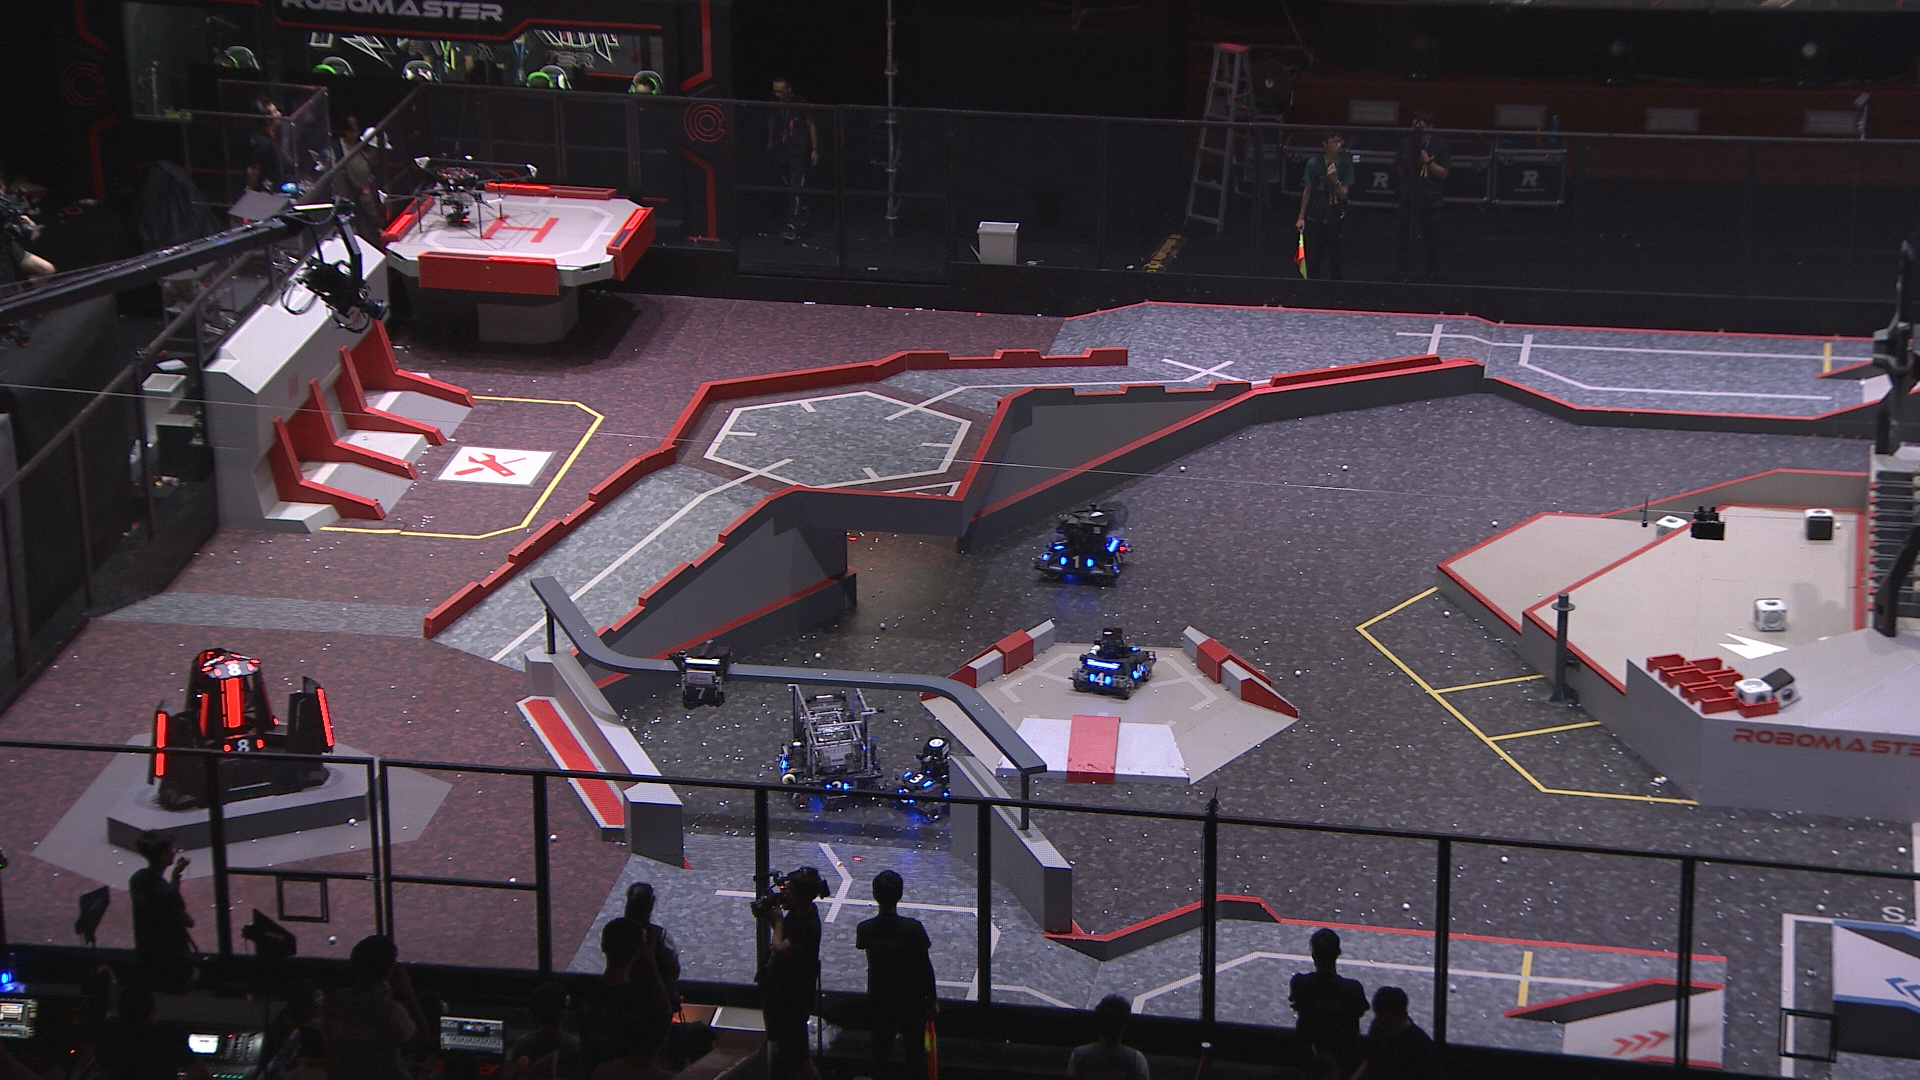armor: (218, 678, 245, 732), (152, 711, 171, 779), (318, 687, 334, 750), (211, 661, 256, 676), (222, 736, 264, 752), (1059, 553, 1095, 571), (196, 692, 210, 738), (683, 684, 716, 702), (903, 770, 934, 789), (895, 789, 920, 807), (1087, 671, 1114, 687), (823, 779, 851, 793), (774, 752, 789, 773), (1050, 537, 1069, 551), (1112, 549, 1127, 566), (1133, 665, 1147, 680)
base: (146, 647, 335, 812)
car: (773, 676, 880, 807), (1031, 502, 1134, 584), (885, 737, 977, 822), (1067, 624, 1154, 698)
watcher: (669, 638, 736, 711)
